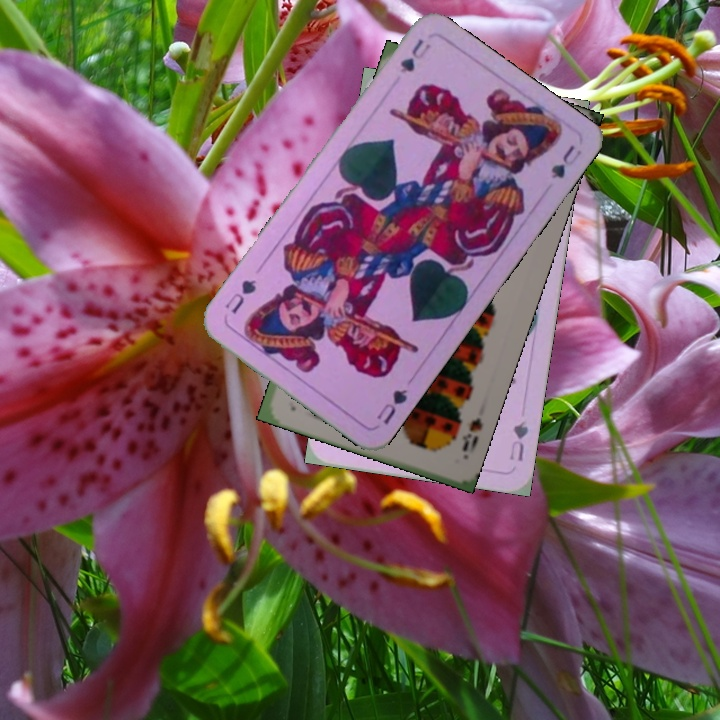GU: (372, 384, 410, 427), (395, 34, 433, 76), (506, 416, 531, 464)
S8: (457, 414, 485, 454)
